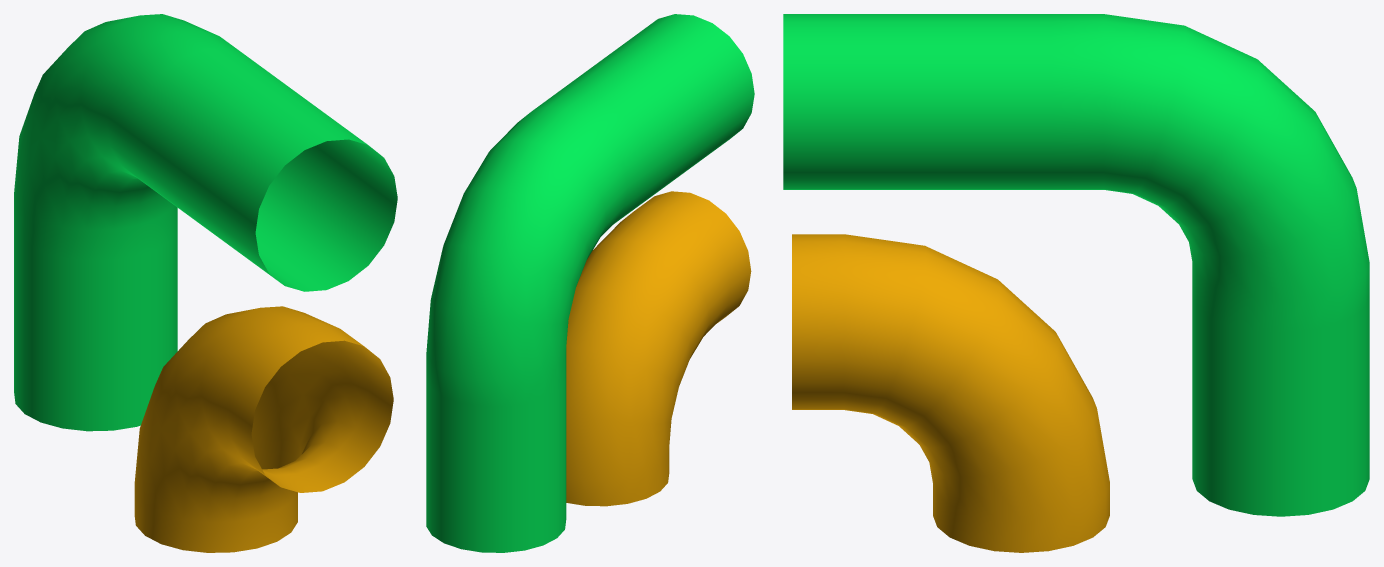
Rendered from wire_angle model.fbx.
3 views of the same model, side by side, from view 1: azimuth 30°, elevation 25°; view 2: azimuth 150°, elevation 25°; view 3: azimuth 270°, elevation 25° (orthographic). The views are drawn at different scales.
Visible parts, largest first — view 1: wire_angletop, wire_anglebottom; view 2: wire_angletop, wire_anglebottom; view 3: wire_angletop, wire_anglebottom.
Boxes of the visible parts, x1,y1,x2,y2 form: wire_angletop: (14,14,397,431); wire_anglebottom: (134,306,393,552); wire_angletop: (426,14,754,552); wire_anglebottom: (566,191,751,506); wire_angletop: (783,14,1369,516); wire_anglebottom: (792,234,1109,552).
Bounding box in the file's own units: 1.75 × 5.39 × 5.8.
